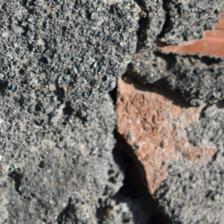Crack: (108, 87, 177, 223)
